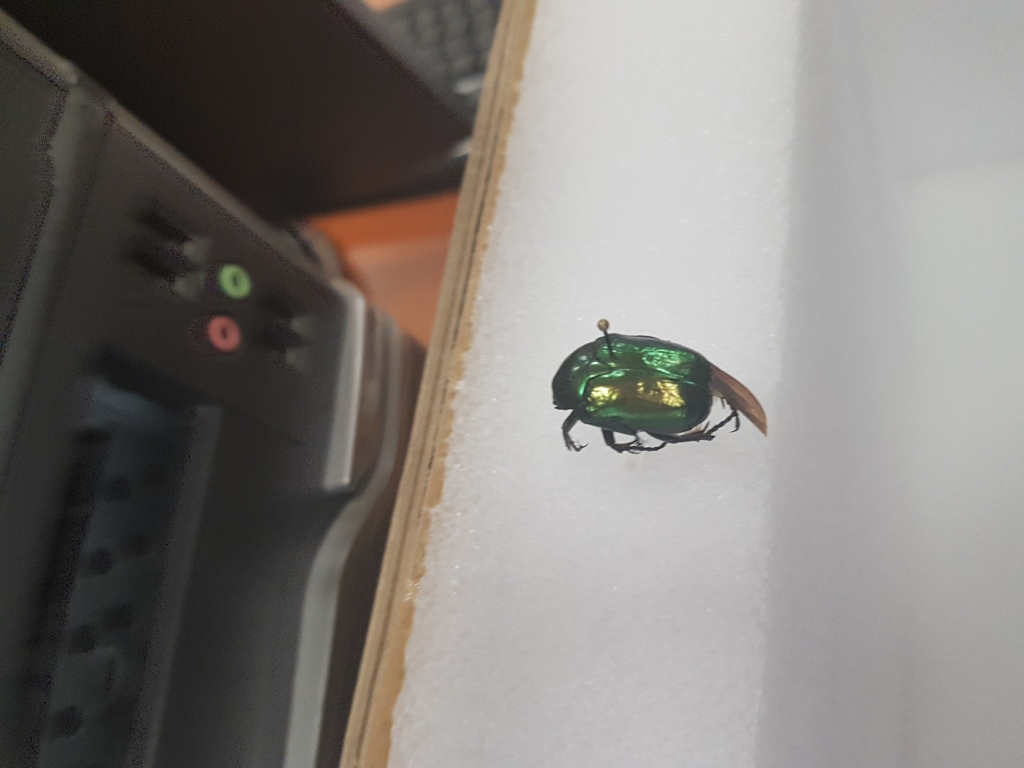Protaetia_angustata_angustata: (538, 325, 779, 463)
